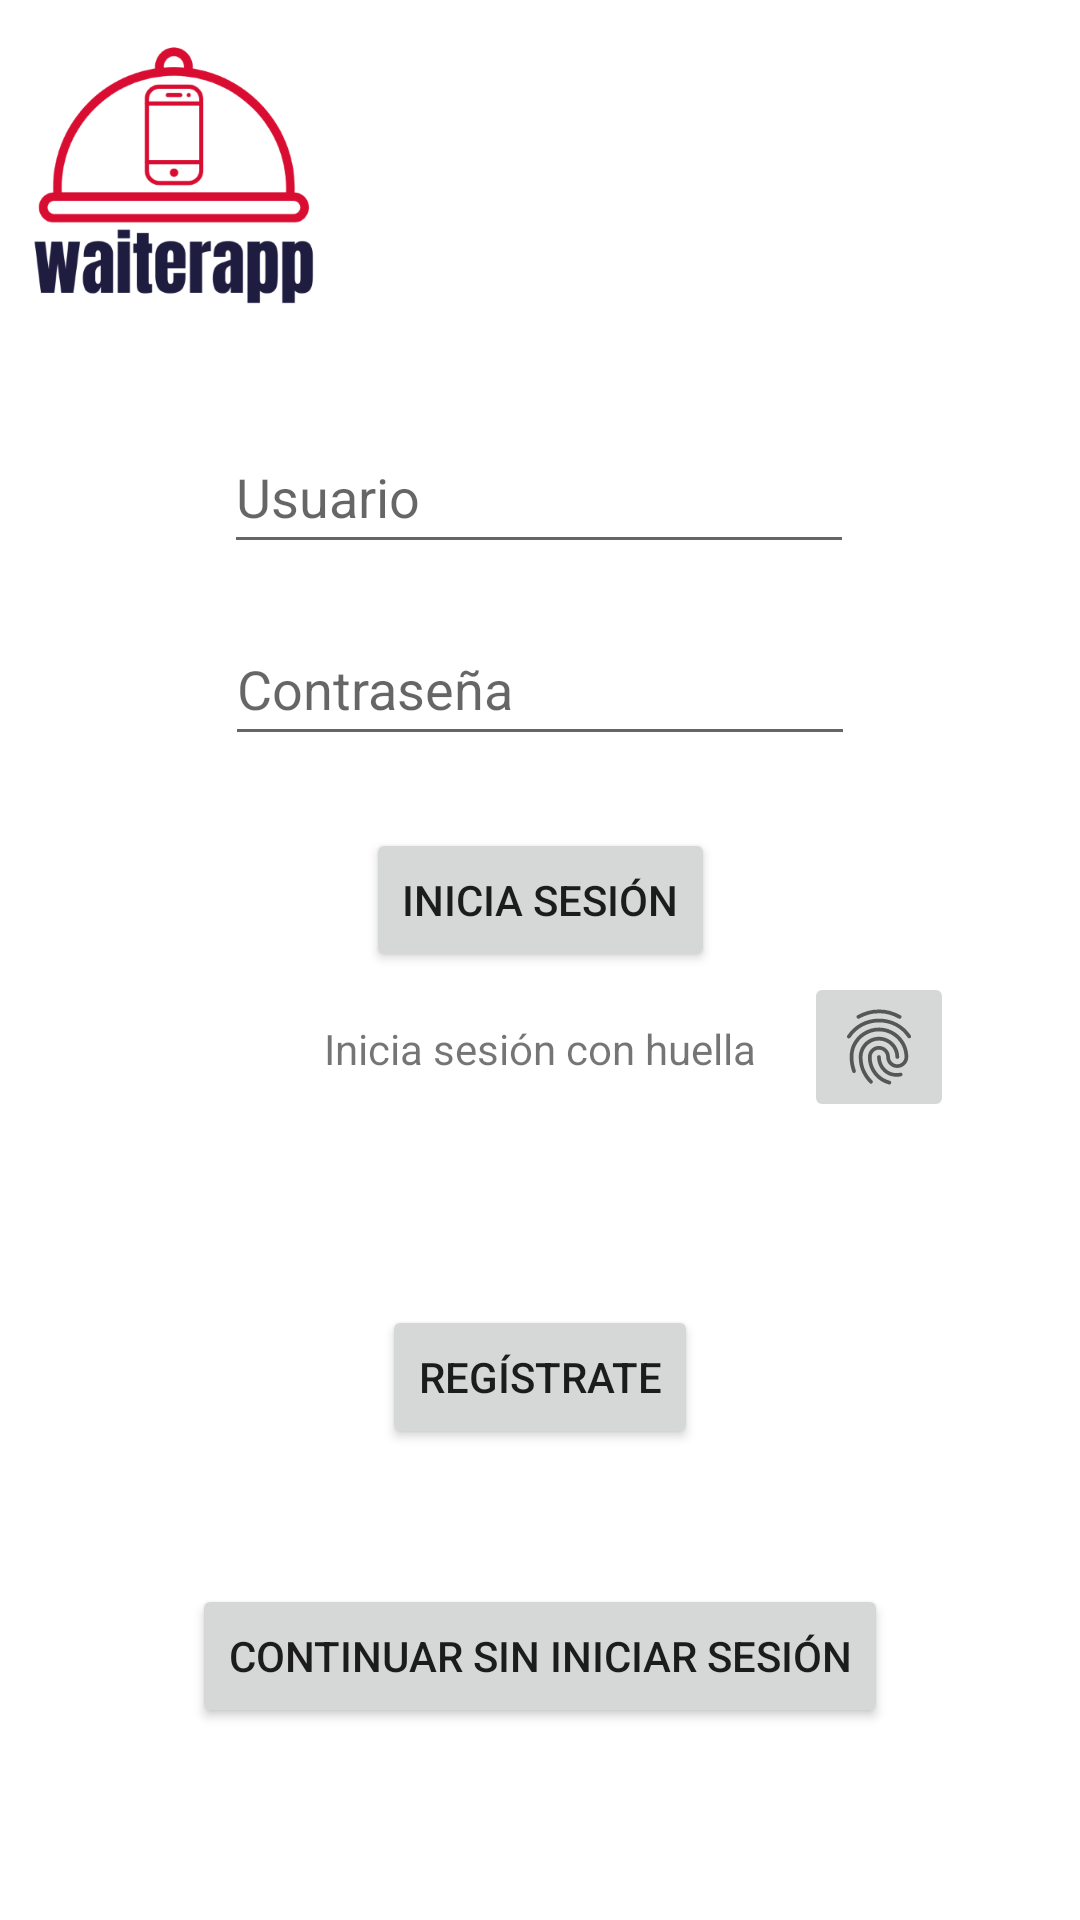

Point at icon controls on the screen. Image size 1080 x 1920, points as point (x, y).
Icono de huella dactilar: point (879, 1047)
